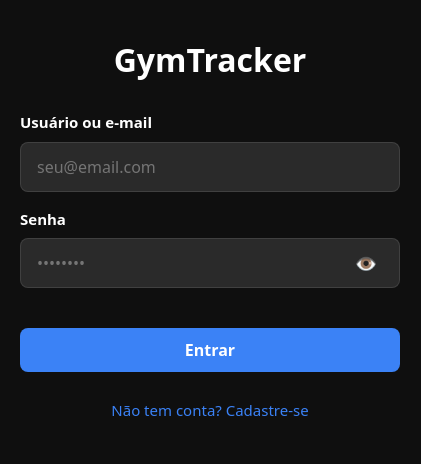
Test: LoginPage › mostra erro ao logar com senha incorreta
Type "joao" into the field labelled "Usuário ou e-mail" at (210, 167), box [20, 142, 400, 192]
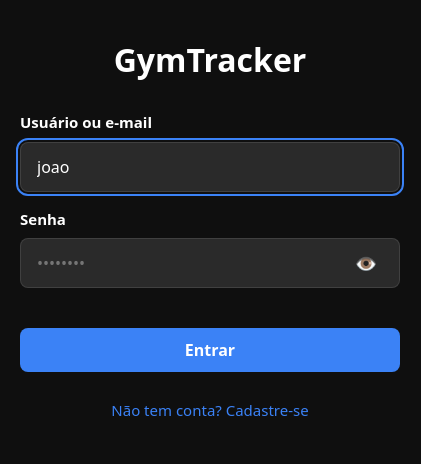
Type "errada" into the password field labelled "Senha" at (210, 263), box [20, 238, 400, 288]
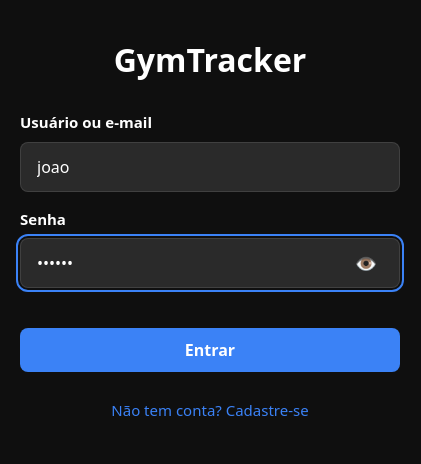
Click the button "Entrar" at (210, 350), box [20, 328, 400, 372]
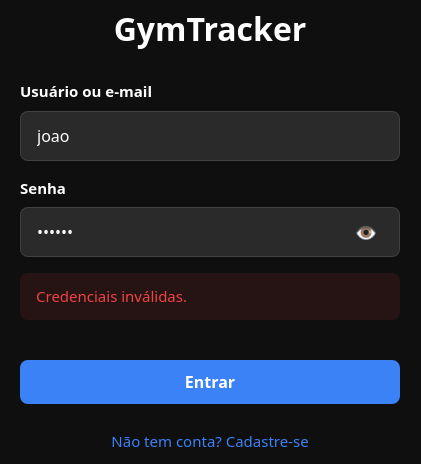
Check: the message reads "Credenciais inválidas.", box [36, 286, 187, 306]
